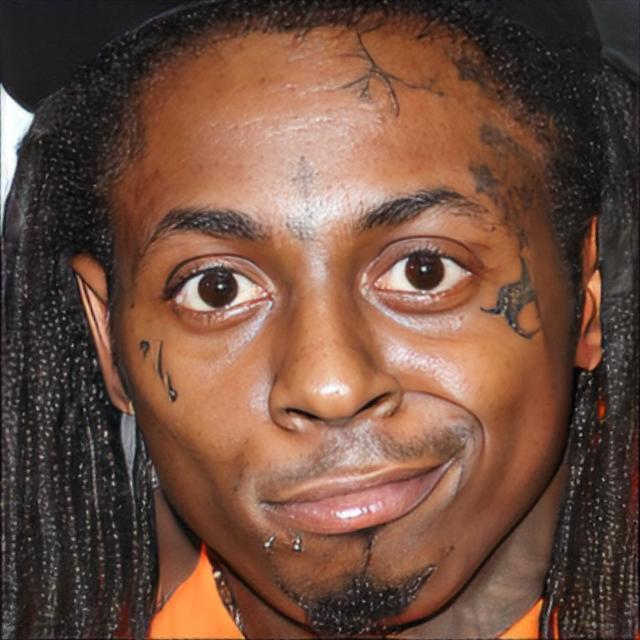content: (116, 6, 570, 633)
